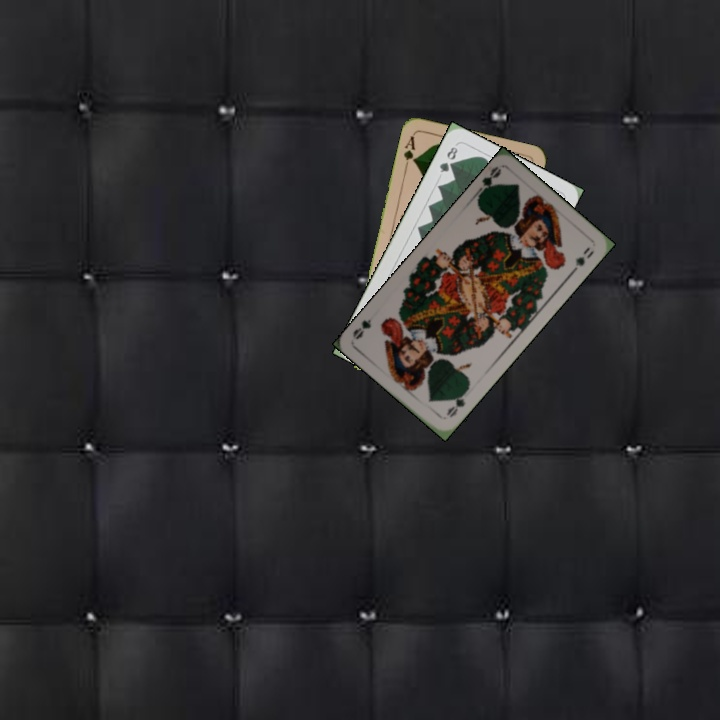G8: (435, 142, 460, 175)
GA: (400, 132, 418, 171)
GO: (472, 162, 504, 200), (442, 386, 470, 421)
